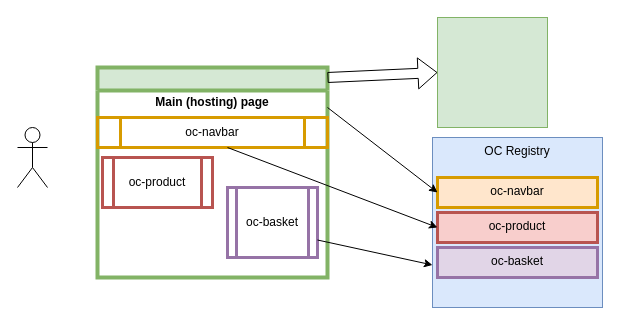
Image size: 620x325. Some labels were removed from this diagram. The box of each missing label's shape, as (x1, y1, x2, y2) in pixels:
Browser: (95, 65, 329, 279)
main http server: (436, 16, 548, 128)
User: (16, 126, 48, 188)
